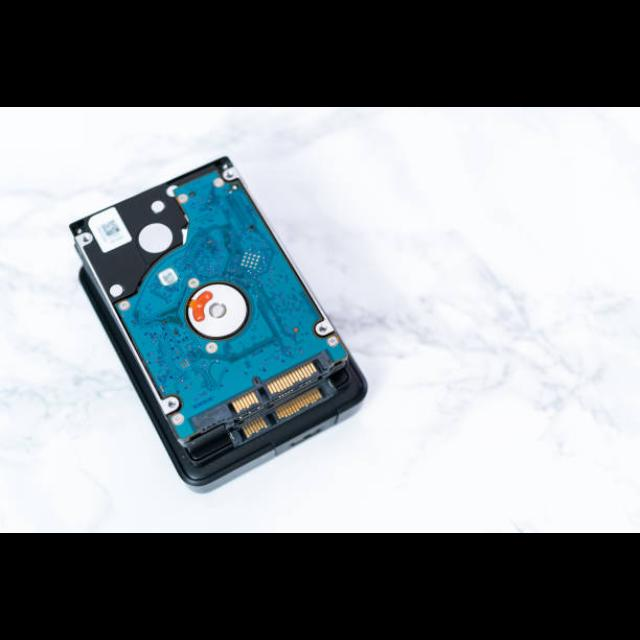HDD: (69, 158, 348, 441)
